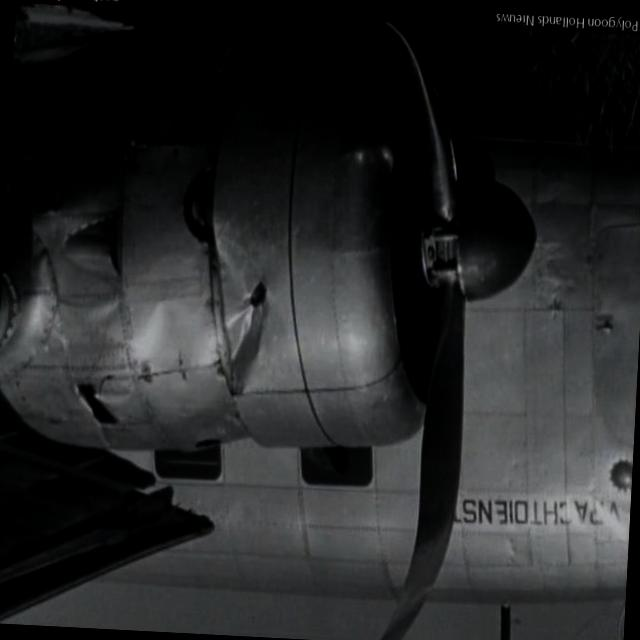crack: (239, 276, 273, 325), (186, 174, 211, 239), (80, 386, 120, 425)
dent: (304, 28, 405, 378), (6, 205, 125, 369), (221, 298, 274, 378), (144, 300, 198, 360)
